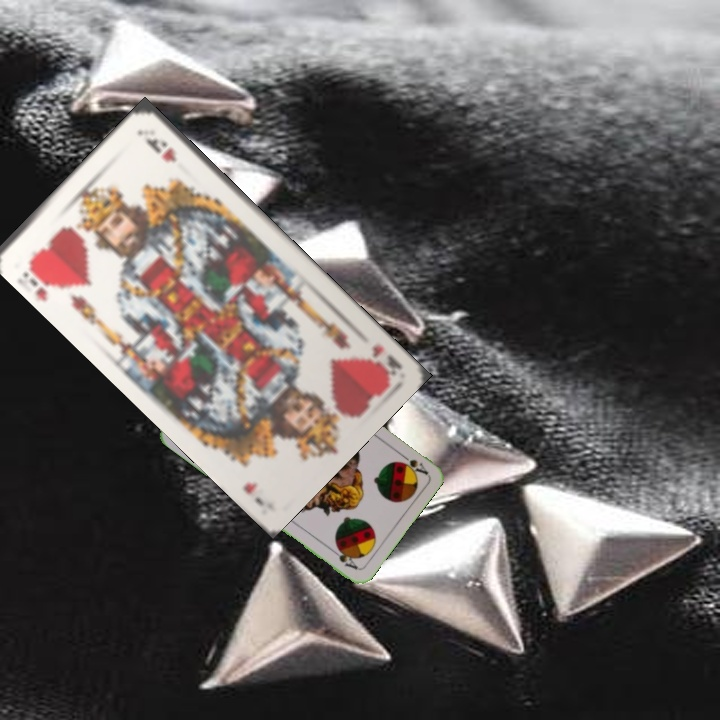HK: (18, 255, 65, 294), (364, 340, 404, 380)
SA: (395, 448, 430, 477)
